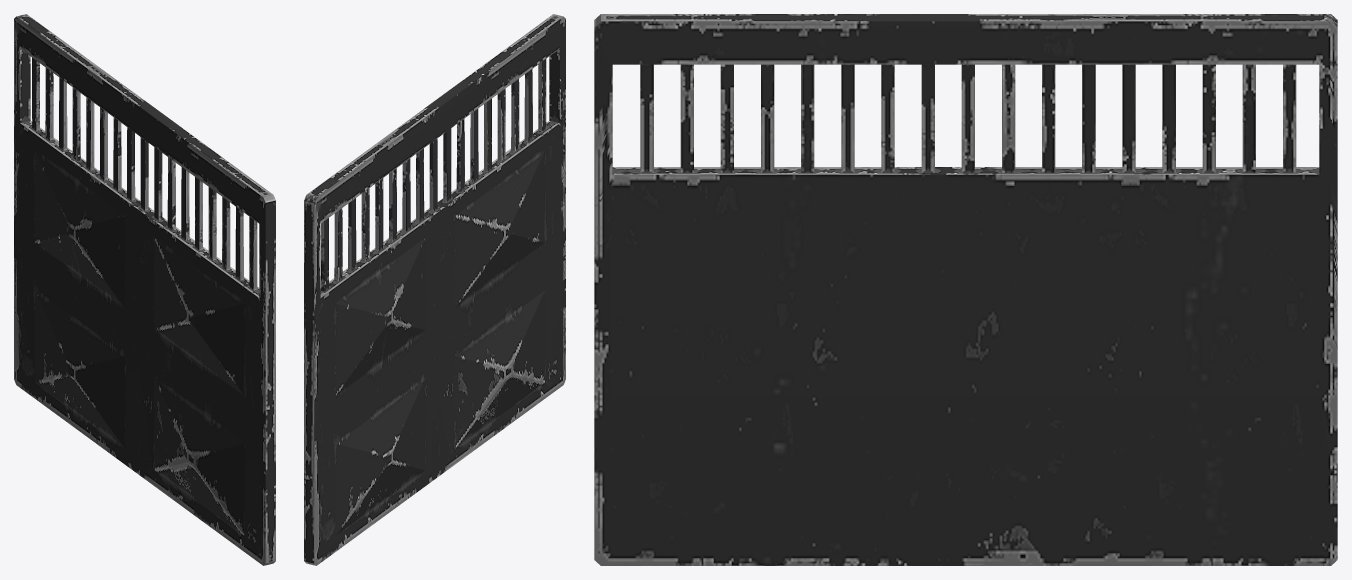
File: delegate gate.fbx
3 renders of one model, left to right at view 1: azimuth 30°, elevation 25°; view 2: azimuth 150°, elevation 25°; view 3: azimuth 270°, elevation 25°, orthographic. The views are drawn at different scales.
Visible parts, largest first — view 1: Cube.035; view 2: Cube.035; view 3: Cube.035.
Part boxes in pixels (bbox=[...]): Cube.035: bbox=[14, 14, 275, 565]; Cube.035: bbox=[304, 14, 565, 565]; Cube.035: bbox=[594, 14, 1337, 565].
Bounding box in the file's own units: 14.96 × 276 × 341.
